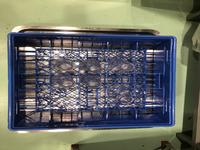Glass: (107, 58, 135, 71), (109, 89, 132, 104), (80, 59, 102, 74), (79, 74, 101, 89), (51, 74, 74, 88), (52, 58, 74, 71)
